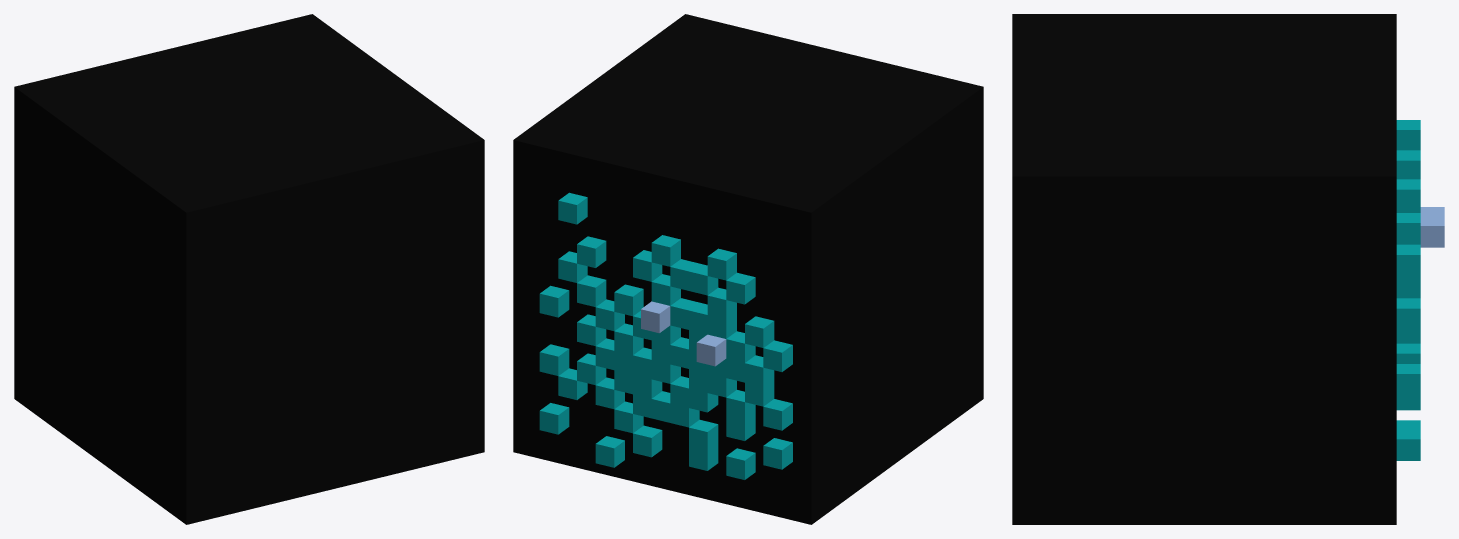
Rendered from br-m-brush-aqua.fbx.
3 views of the same model, side by side, from view 1: azimuth 30°, elevation 25°; view 2: azimuth 150°, elevation 25°; view 3: azimuth 270°, elevation 25° (orthographic). The views are drawn at different scales.
Parts seen in each view (by area): view 1: base; view 2: base, brush; view 3: base, brush.
Boxes of the visible parts, x1,y1,x2,y2 form: base: [14, 14, 484, 524]; base: [513, 14, 983, 524]; brush: [539, 192, 792, 479]; base: [1012, 14, 1396, 524]; brush: [1396, 120, 1444, 460].
Bounding box in the file's own units: 1 × 1 × 1.12.
